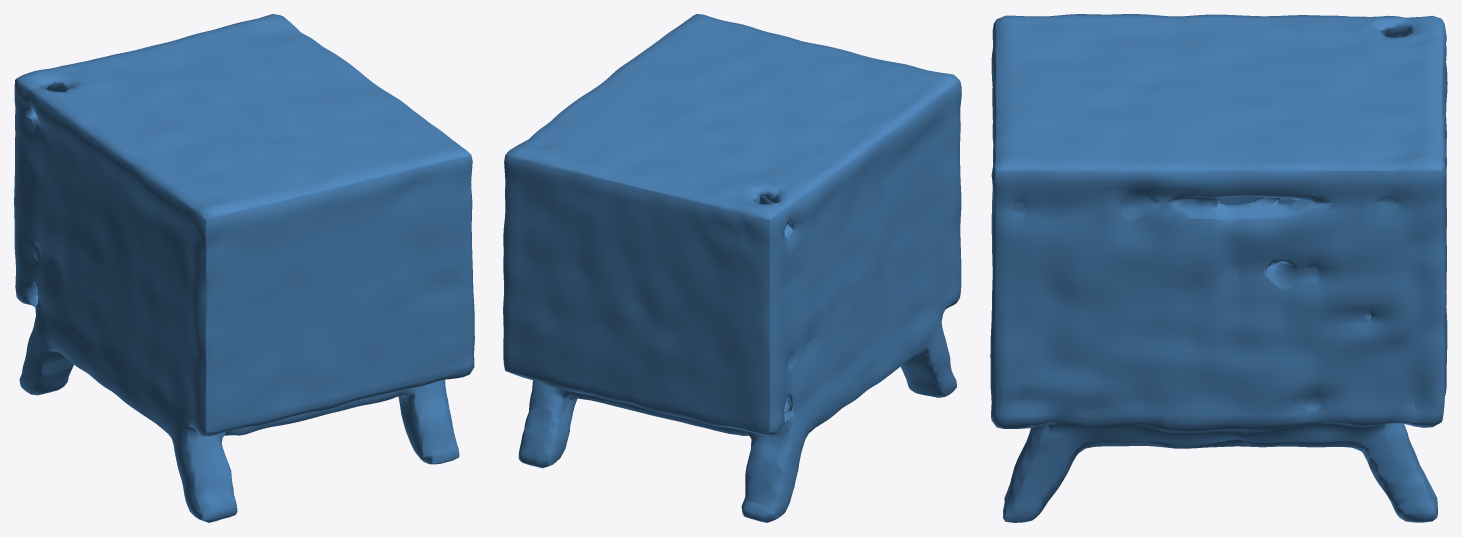
The model's file is nightstand_8_4.obj.
3 views of the same model, side by side, from view 1: azimuth 30°, elevation 25°; view 2: azimuth 150°, elevation 25°; view 3: azimuth 270°, elevation 25° (orthographic). The views are drawn at different scales.
Bounding box in the file's own units: 0.6495 × 0.7144 × 0.8027.
